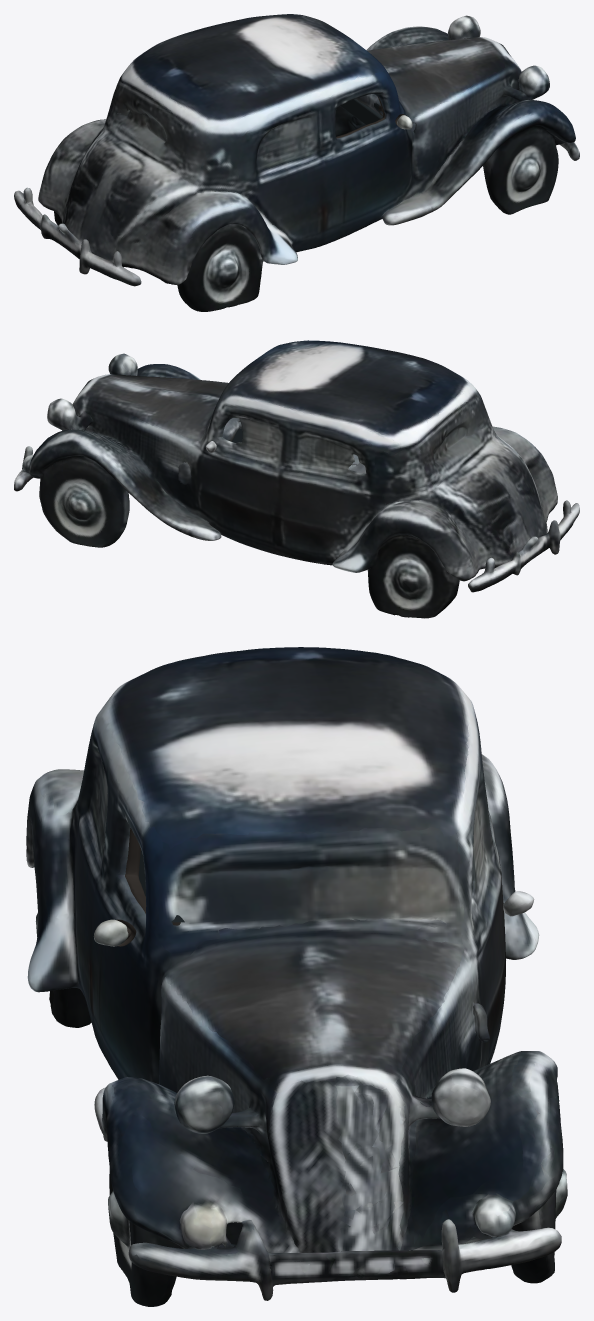
Rendered from car_door_authored.glb.
3 views of the same model, one above another, from view 1: azimuth 30°, elevation 25°; view 2: azimuth 150°, elevation 25°; view 3: azimuth 270°, elevation 25° (orthographic). The views are drawn at different scales.
Visible parts, largest first — view 1: Generated exterior - fixed, Generated front door - native UV PBR, ADDED plausible dashboard; view 2: Generated exterior - fixed; view 3: Generated exterior - fixed, Generated front door - native UV PBR, ADDED door inner lining.
Boxes of the visible parts, x1,y1,x2,y2 form: Generated exterior - fixed: (14, 14, 579, 311); Generated front door - native UV PBR: (322, 81, 413, 231); ADDED plausible dashboard: (340, 99, 382, 124); Generated exterior - fixed: (14, 340, 579, 618); Generated exterior - fixed: (26, 647, 567, 1306); Generated front door - native UV PBR: (91, 787, 185, 1084); ADDED door inner lining: (116, 828, 180, 946).
Size of the model in its own units: 1 by 0.3641 by 0.4934.
4 materials, 1 textured.
